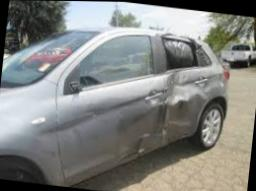Door: (157, 33, 217, 145), (112, 100, 164, 165)
